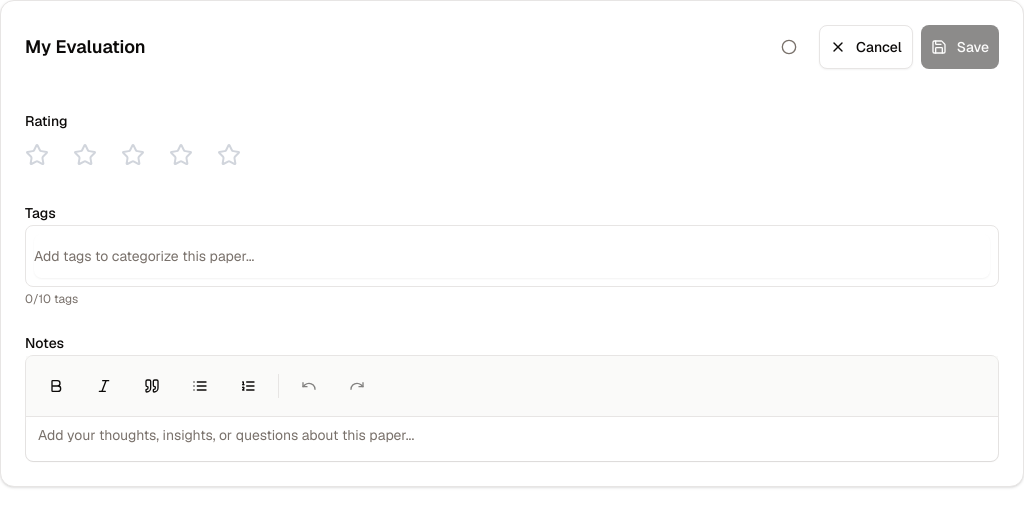
Scenario: UserEvaluation › shows tag suggestions
The width and height of the screenshot is (1024, 505).
# Find the tag input
Type "neural" into the field with placeholder "Add tags to categorize this paper...".
click(512, 256); type("neural")  # box x1=34 y1=234 x2=990 y2=278
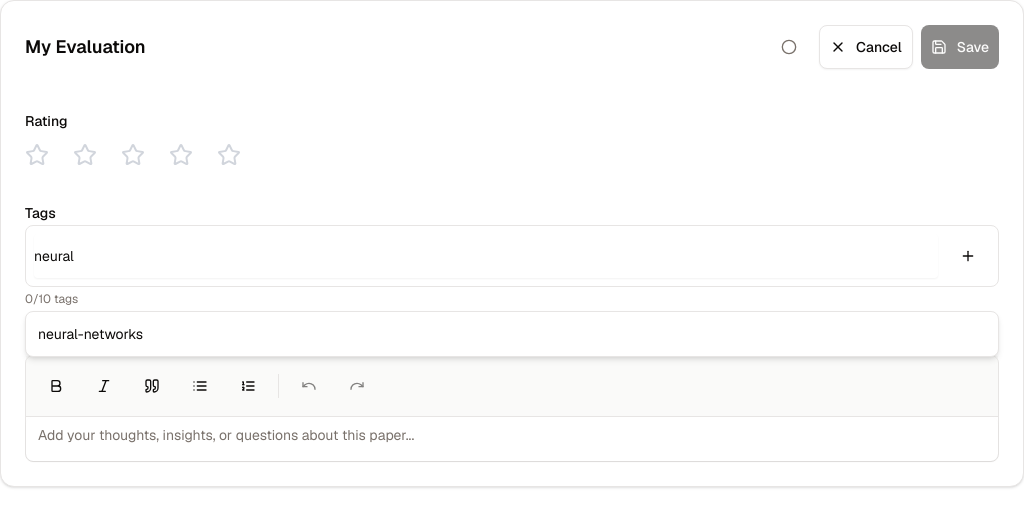
Check: the button "neural-networks" is shown, box x1=26 y1=312 x2=998 y2=356
